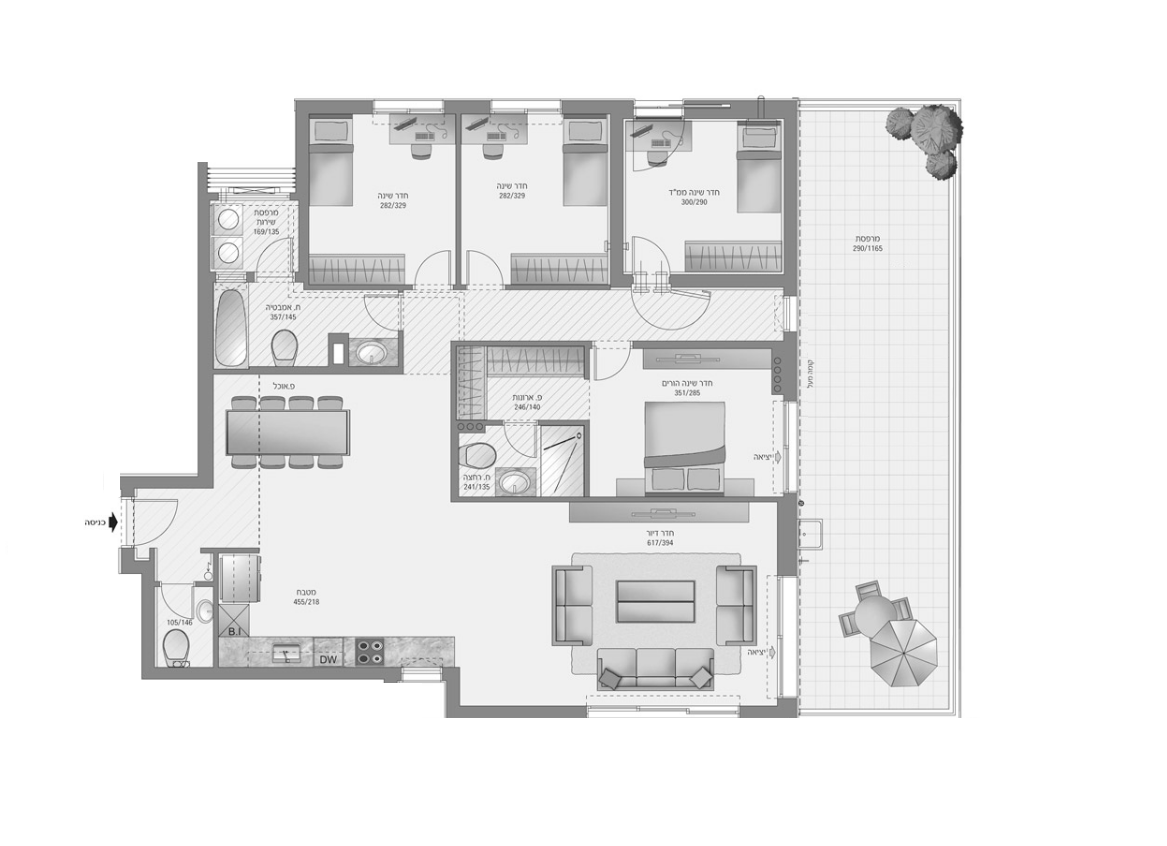balcony: (801, 115, 946, 703)
door: (133, 493, 183, 545), (254, 230, 300, 284), (588, 336, 637, 381), (634, 234, 677, 284), (466, 244, 508, 292), (410, 251, 454, 290), (158, 581, 199, 619)
room: (215, 388, 451, 660), (464, 510, 774, 695), (460, 354, 781, 490), (469, 124, 609, 277), (310, 129, 447, 279), (636, 122, 779, 260)
wall: (452, 490, 790, 507), (142, 661, 399, 683), (196, 158, 213, 483), (782, 95, 800, 298), (682, 95, 797, 120), (446, 701, 588, 720), (608, 121, 624, 285), (297, 103, 311, 290), (137, 571, 158, 683), (211, 367, 404, 379), (120, 471, 215, 493), (447, 340, 460, 497), (454, 117, 465, 289), (670, 270, 796, 285), (633, 339, 787, 351), (454, 339, 593, 352), (779, 494, 797, 575), (564, 97, 634, 117), (309, 280, 416, 293), (297, 98, 374, 112), (504, 281, 623, 290), (446, 97, 492, 115), (738, 703, 801, 716), (786, 338, 799, 399), (445, 669, 463, 712)
window: (593, 704, 742, 720), (782, 576, 801, 698), (783, 397, 805, 489), (492, 90, 561, 119), (634, 97, 691, 124), (374, 95, 443, 116), (783, 294, 804, 333)
